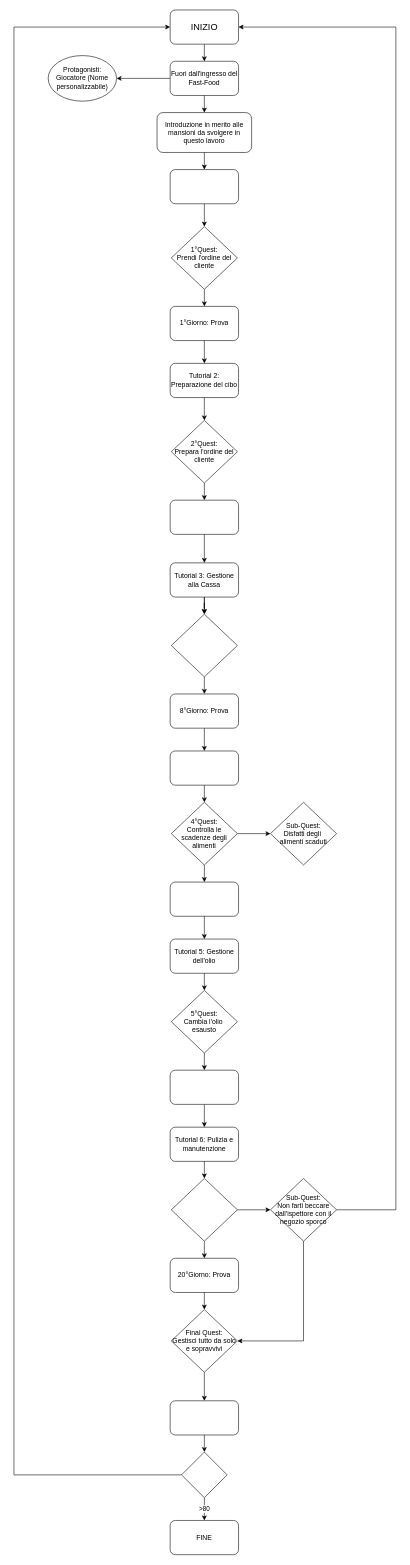
Image size: 410x1565. Some labels were removed from this diagram. Each missing label, with the centre of its shape:
13°Giorno: Prova: point 204,899
15°Giorno: Prova: point 204,1087
30°Giorno: Valutazione Finale: point 204,1417
3°Quest: Gestici ordini multipli: point 204,645
5°Giorno: Prova: point 204,517
6°Quest: Tieni il tegozio pulito e sistemato: point 204,1209
Tutorial 1: Gestione alla Cassa: point 204,186
Tutorial 4: Controllo delle scadenze: point 204,767
Valutazione: point 204,1475
